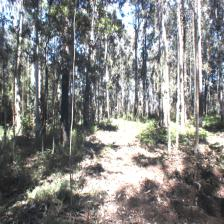trunktrack_idkeyframe: (60, 91, 69, 142), (194, 86, 199, 152)
